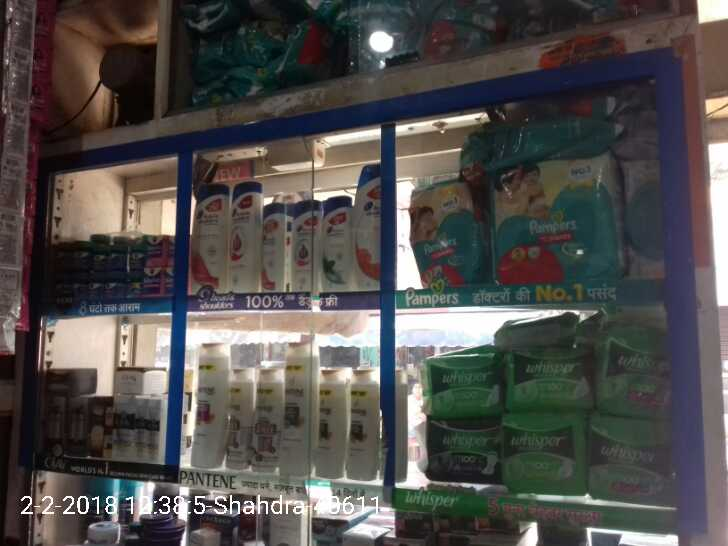vicks: (65, 230, 177, 301)
